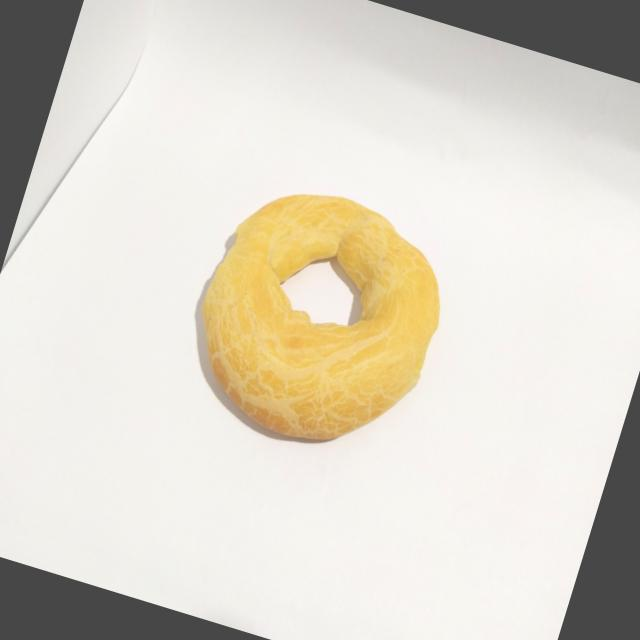Chipa: (160, 158, 470, 482)
